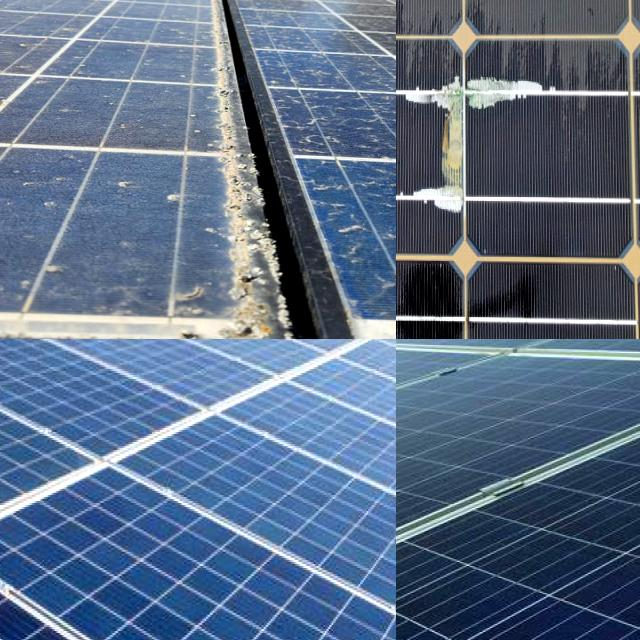crack: (113, 339, 396, 640), (396, 339, 640, 640), (0, 466, 396, 640), (0, 502, 351, 640), (0, 339, 166, 546), (213, 339, 396, 521), (0, 339, 211, 471), (3, 339, 280, 434), (0, 339, 205, 466)
dust: (0, 144, 224, 312), (8, 36, 202, 134), (306, 145, 396, 314), (276, 24, 396, 138), (0, 0, 216, 20), (0, 43, 40, 136)
shadow: (396, 58, 565, 241)
